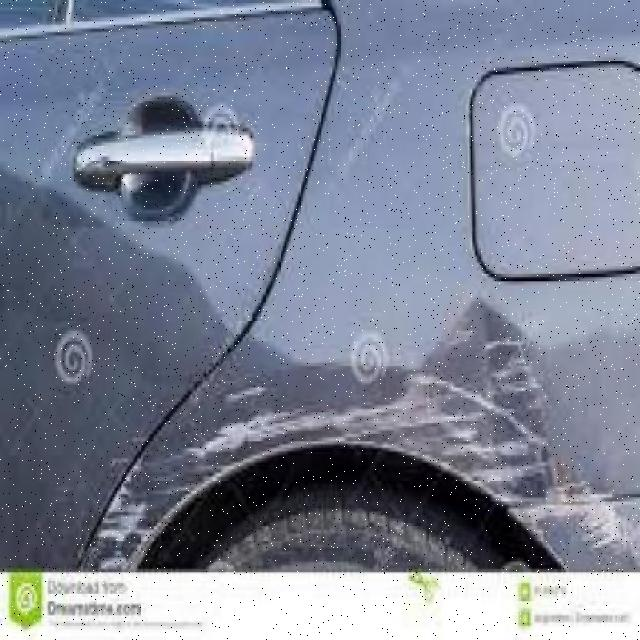damage: (80, 334, 638, 572)
